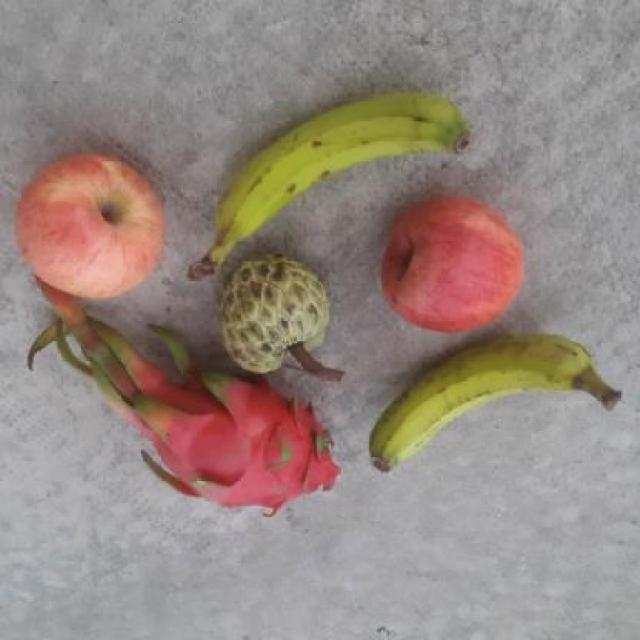apple: (8, 150, 169, 302), (380, 190, 528, 336)
banana: (181, 90, 477, 281), (365, 330, 630, 475)
dragon fruit: (129, 370, 343, 512)
sugar apple: (218, 255, 338, 376)
